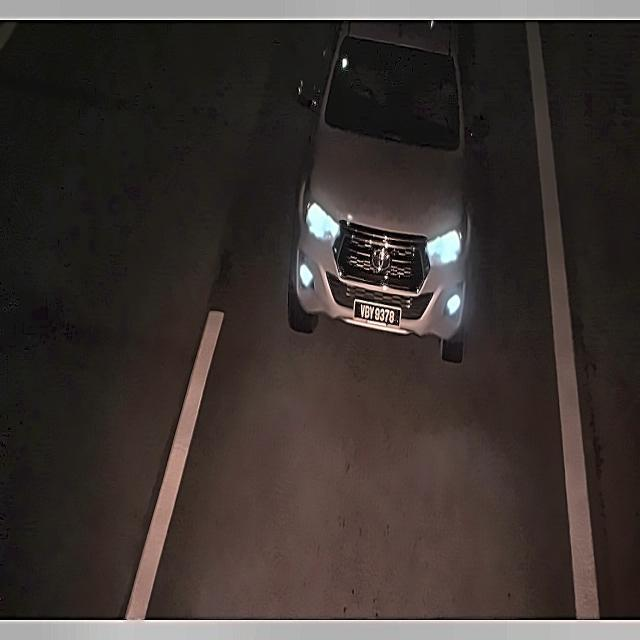car: (349, 295, 407, 336)
